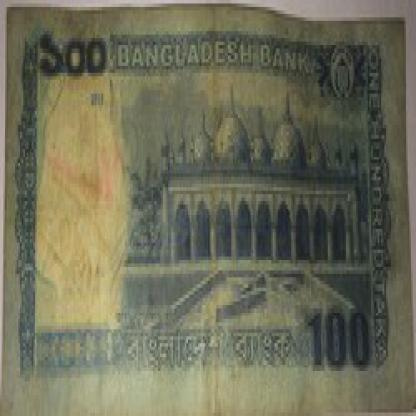one hundred taka: (303, 298, 371, 371), (35, 24, 111, 83)
